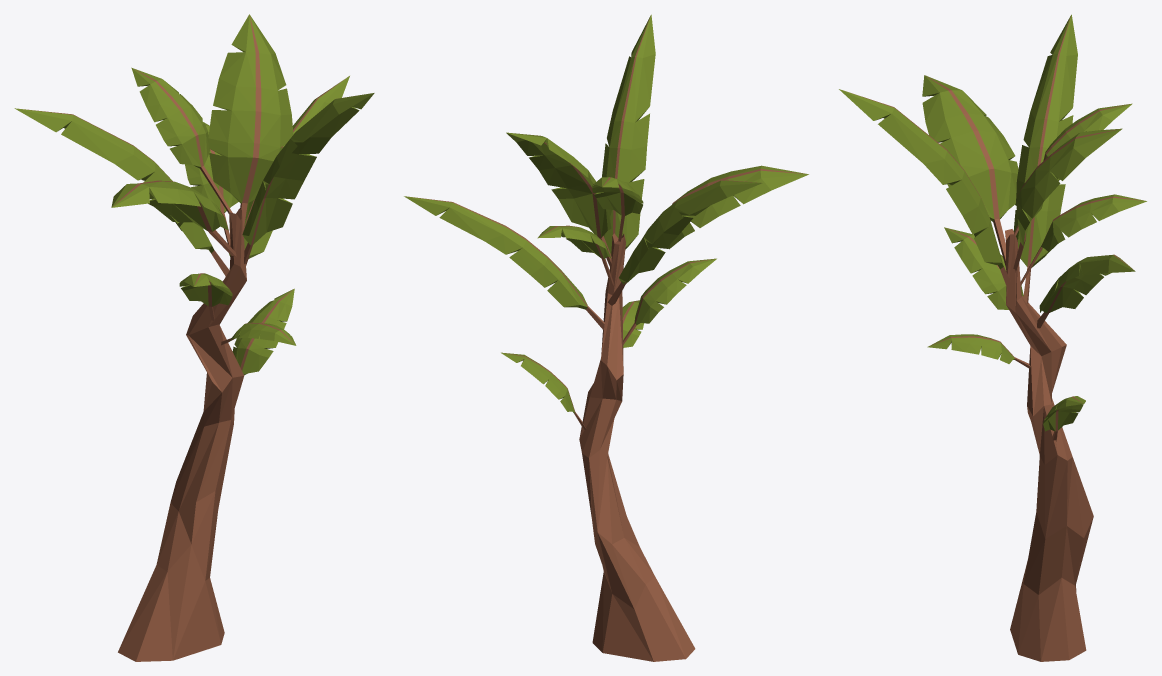
File: Palm Tree_1_2.fbx
The picture shows the model from 3 angles, left to right: view 1: azimuth 30°, elevation 25°; view 2: azimuth 150°, elevation 25°; view 3: azimuth 270°, elevation 25°; orthographic projection. The views are drawn at different scales.
Visible parts, largest first — view 1: Palm Tree_1_2; view 2: Palm Tree_1_2; view 3: Palm Tree_1_2.
Part boxes in pixels (x1,y1,x2,y2): Palm Tree_1_2: (14,14,374,661); Palm Tree_1_2: (404,14,808,661); Palm Tree_1_2: (839,14,1146,661).
Bounding box in the file's own units: 3.23 × 5.05 × 2.38.
